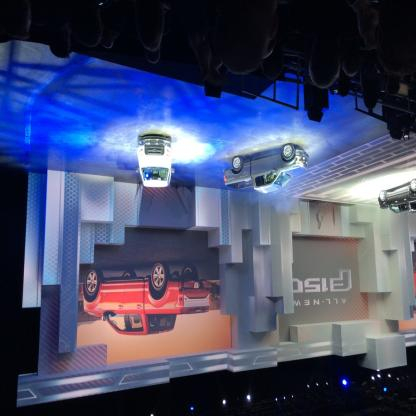Car: (137, 131, 176, 191), (382, 179, 416, 212)
